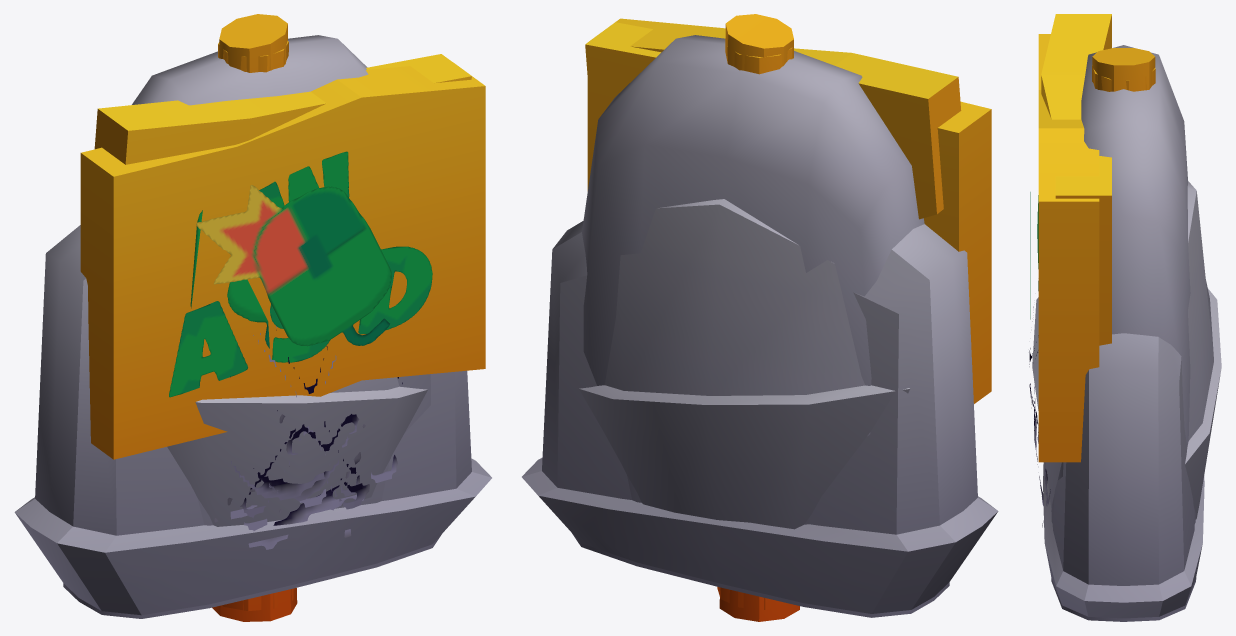
Rendered from obj_Signals.fbx.
The picture shows the model from 3 angles, left to right: view 1: azimuth 30°, elevation 25°; view 2: azimuth 150°, elevation 25°; view 3: azimuth 270°, elevation 25°; orthographic projection. The views are drawn at different scales.
Visible parts, largest first — view 1: obj_Signal_ClickLeft, obj_SignalRock_F, obj_Signal_WASD, obj_SignalRock_C, obj_Signal_ClickRight, obj_SignalRock_E, obj_SignalRock_Q, obj_SignalRock_Z, obj_SignalRock_X, obj_SignalRock_M; view 2: obj_SignalRock_F, obj_SignalRock_C, obj_SignalRock_E, obj_Signal_ClickRight, obj_Signal_ClickLeft, obj_Signal_WASD; view 3: obj_SignalRock_F, obj_SignalRock_E, obj_Signal_ClickLeft, obj_Signal_ClickRight, obj_SignalRock_C, obj_Signal_WASD.
Part boxes in pixels (left/top/right/bottom): obj_Signal_ClickLeft: left=80, top=41, right=485, bottom=621; obj_SignalRock_F: left=14, top=225, right=491, bottom=615; obj_Signal_WASD: left=82, top=63, right=473, bottom=459; obj_SignalRock_C: left=167, top=326, right=427, bottom=526; obj_Signal_ClickRight: left=94, top=14, right=471, bottom=611; obj_SignalRock_E: left=63, top=35, right=441, bottom=618; obj_SignalRock_Q: left=227, top=333, right=369, bottom=509; obj_SignalRock_Z: left=248, top=485, right=363, bottom=549; obj_SignalRock_X: left=240, top=330, right=365, bottom=518; obj_SignalRock_M: left=214, top=455, right=397, bottom=523; obj_SignalRock_F: left=522, top=221, right=998, bottom=613; obj_SignalRock_C: left=579, top=199, right=910, bottom=529; obj_SignalRock_E: left=572, top=35, right=949, bottom=617; obj_Signal_ClickRight: left=585, top=14, right=961, bottom=609; obj_Signal_ClickLeft: left=587, top=18, right=991, bottom=621; obj_Signal_WASD: left=606, top=18, right=725, bottom=34; obj_SignalRock_F: left=1043, top=333, right=1204, bottom=618; obj_SignalRock_E: left=1051, top=45, right=1196, bottom=621; obj_Signal_ClickLeft: left=1030, top=34, right=1155, bottom=462; obj_Signal_ClickRight: left=1037, top=14, right=1155, bottom=345; obj_SignalRock_C: left=1032, top=181, right=1221, bottom=519; obj_Signal_WASD: left=1038, top=34, right=1082, bottom=126.
Bounding box in the file's own units: 223 × 277 × 91.59.
